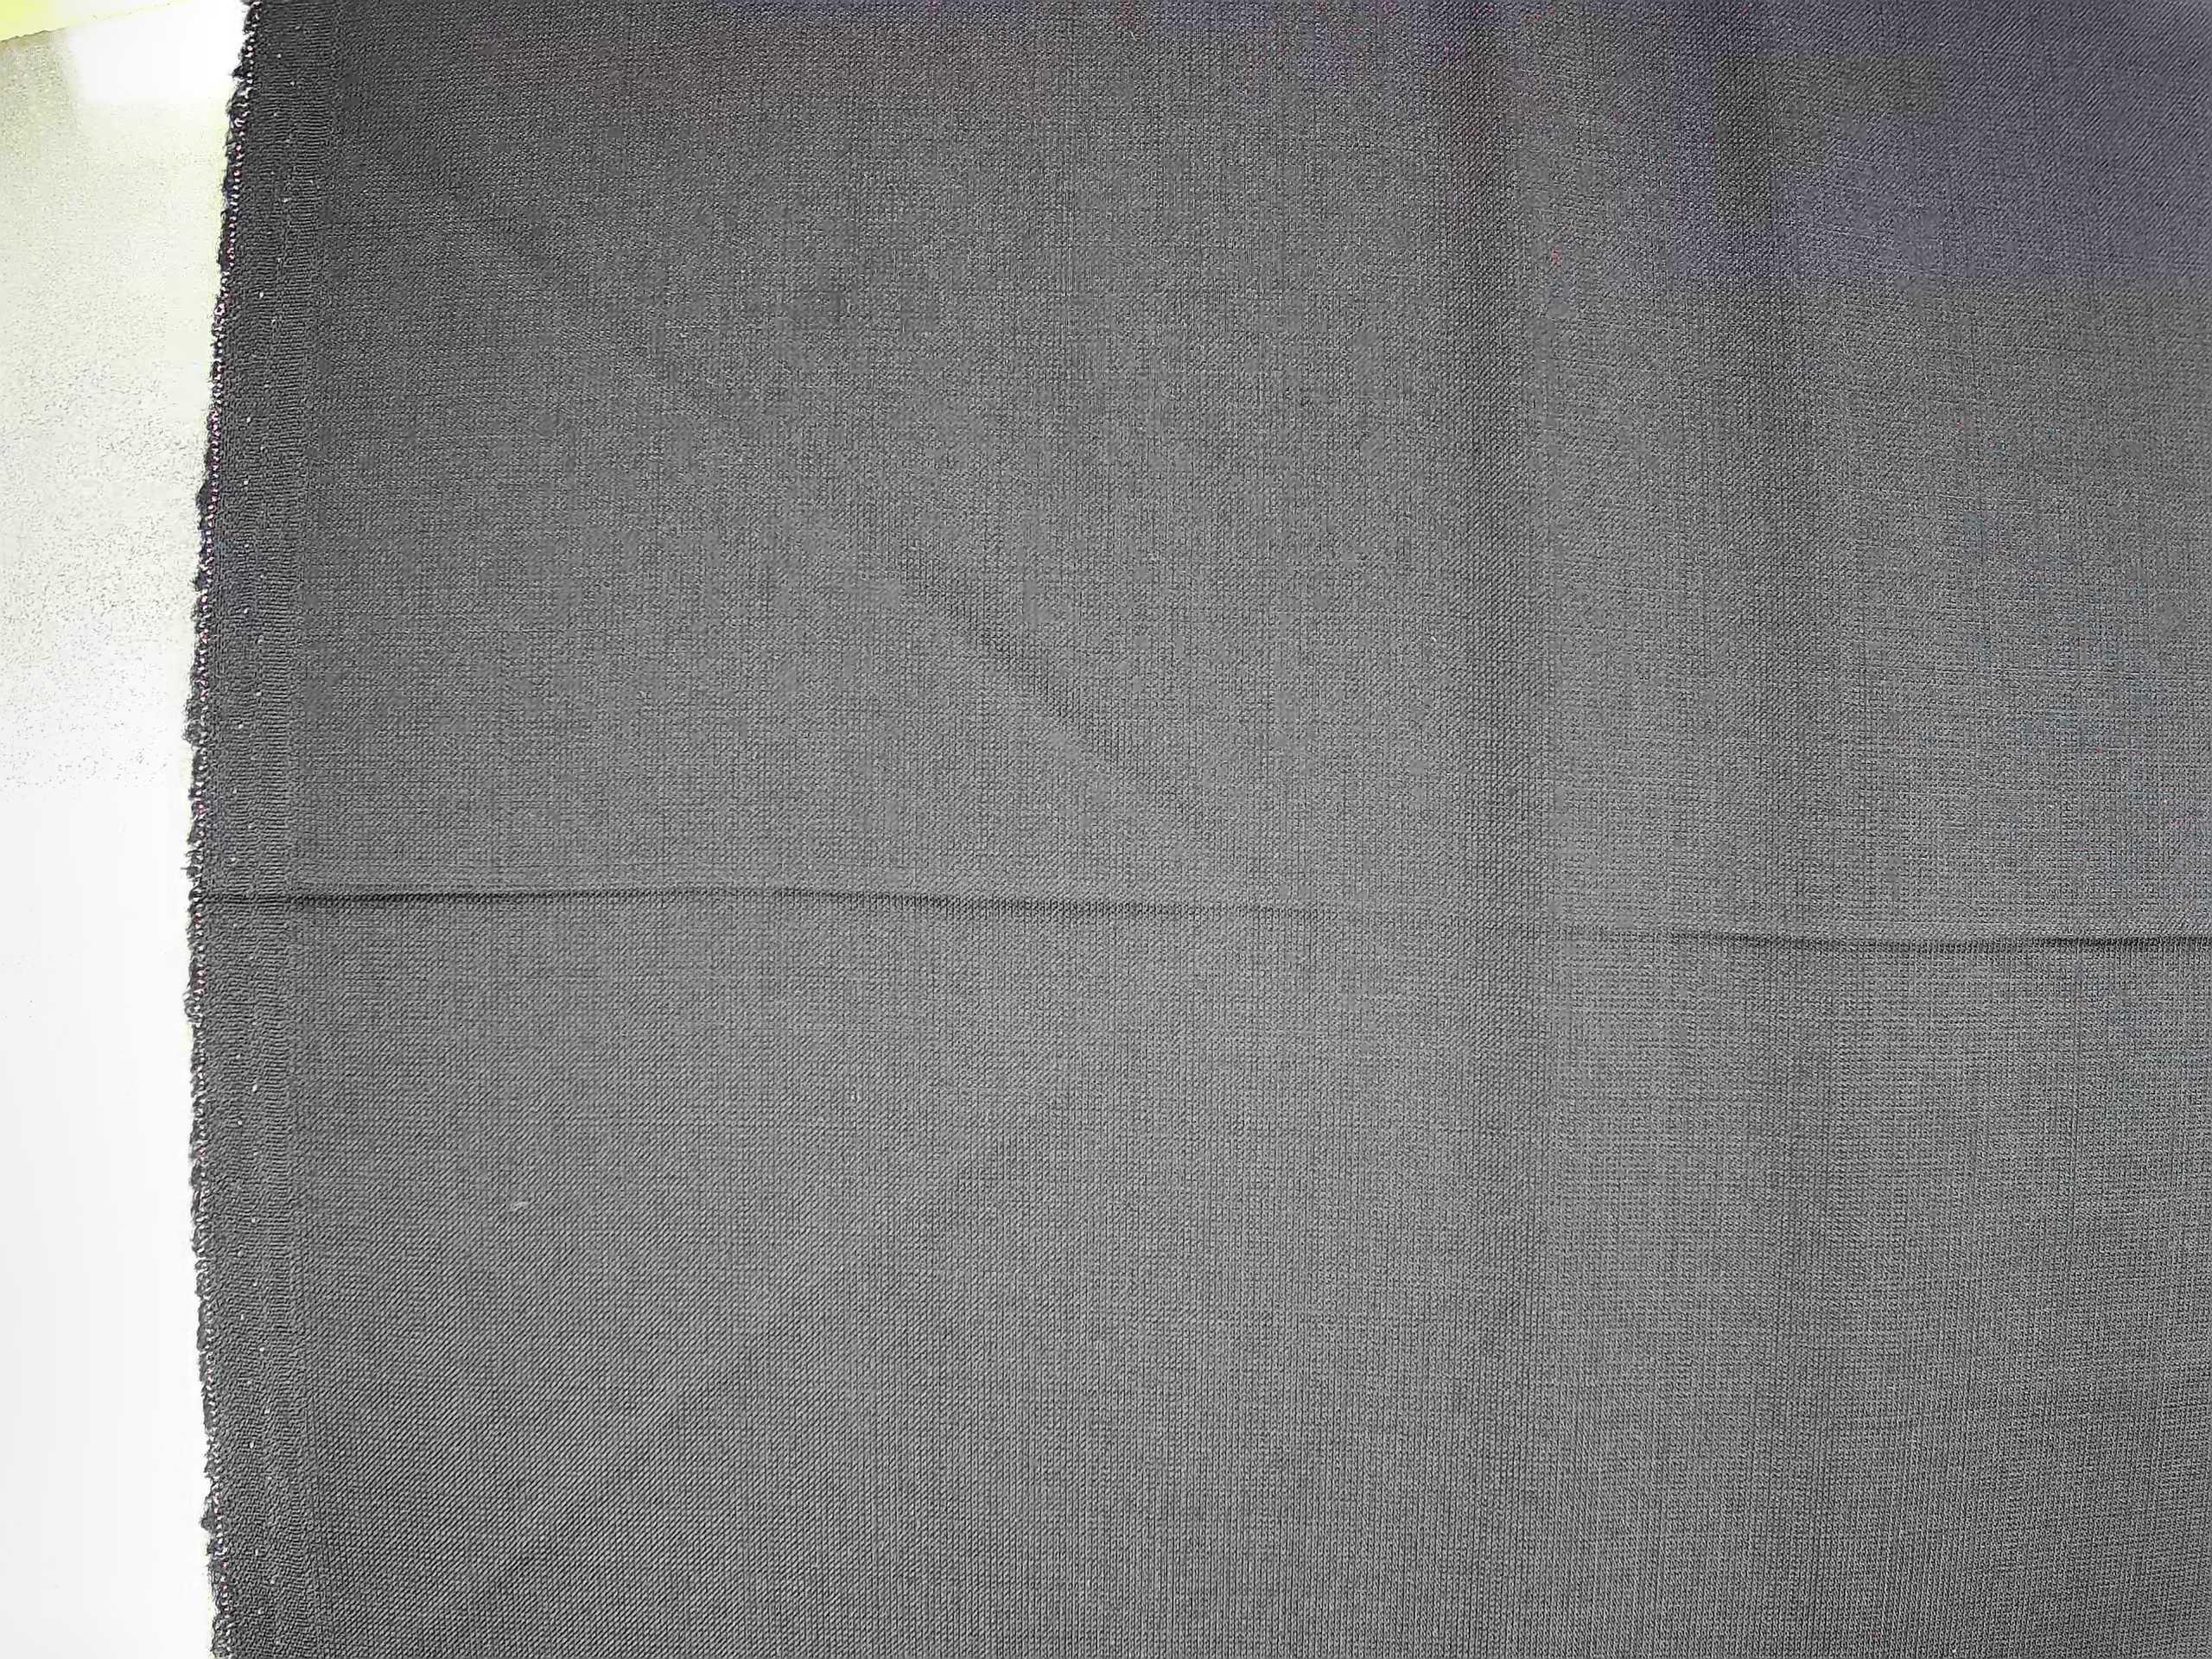others: (482, 622, 517, 997)
